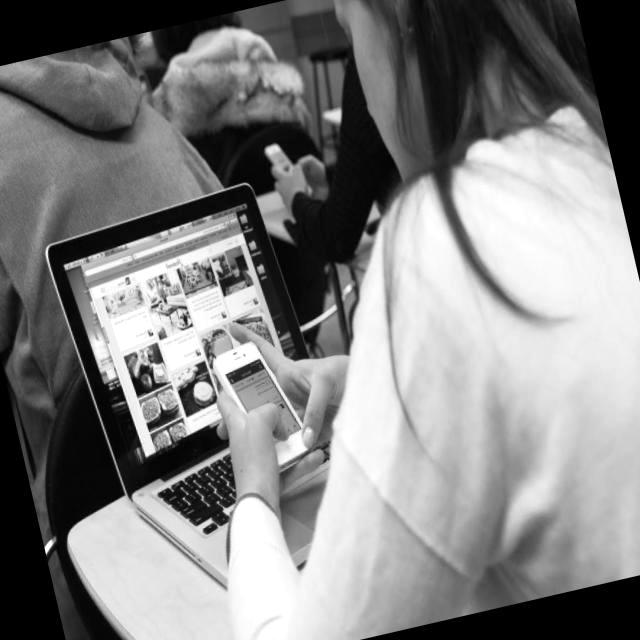phone: (208, 328, 331, 482), (262, 135, 314, 204), (262, 138, 296, 178)
